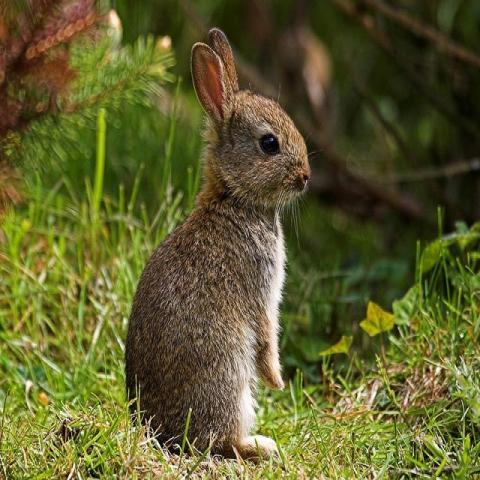small_animal: (122, 27, 314, 463)
